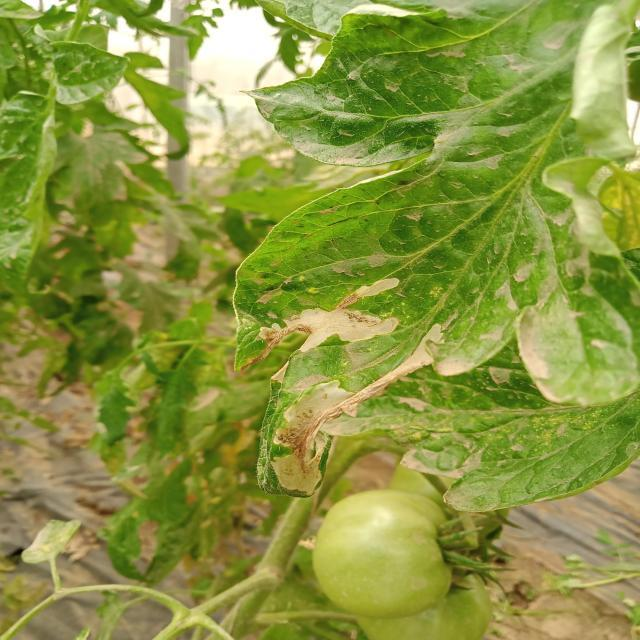Tuta absoluta: (246, 291, 460, 504), (283, 293, 401, 355), (356, 273, 402, 299)
